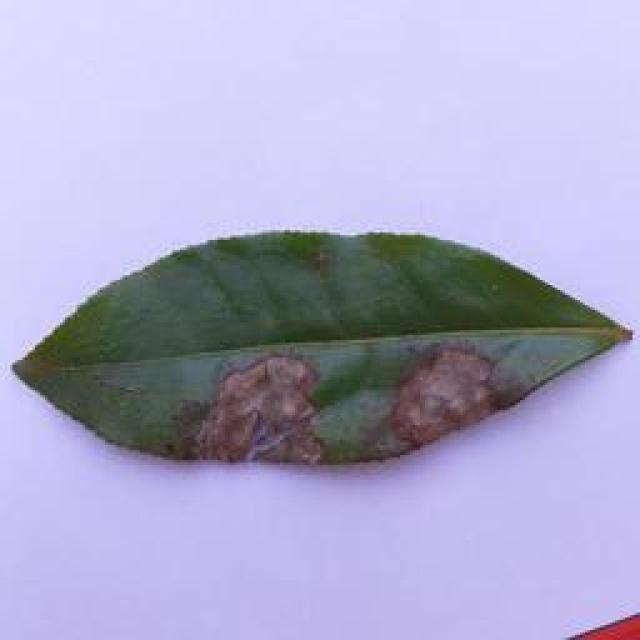Gray Blight: (6, 219, 637, 471)
